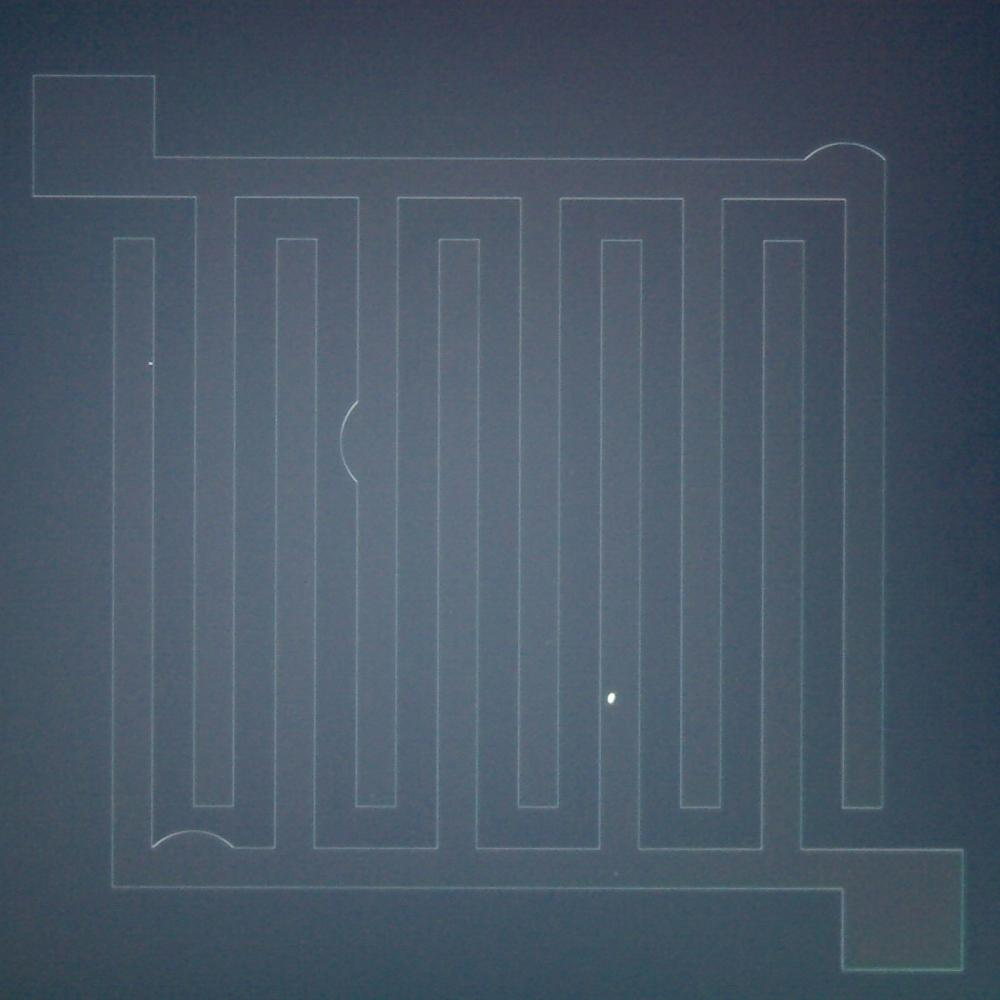dot: (606, 692, 616, 702), (149, 362, 153, 365)
